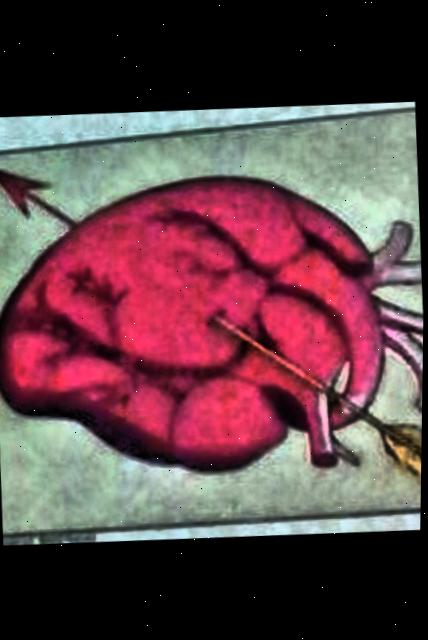El Corazon: (0, 111, 424, 536)
